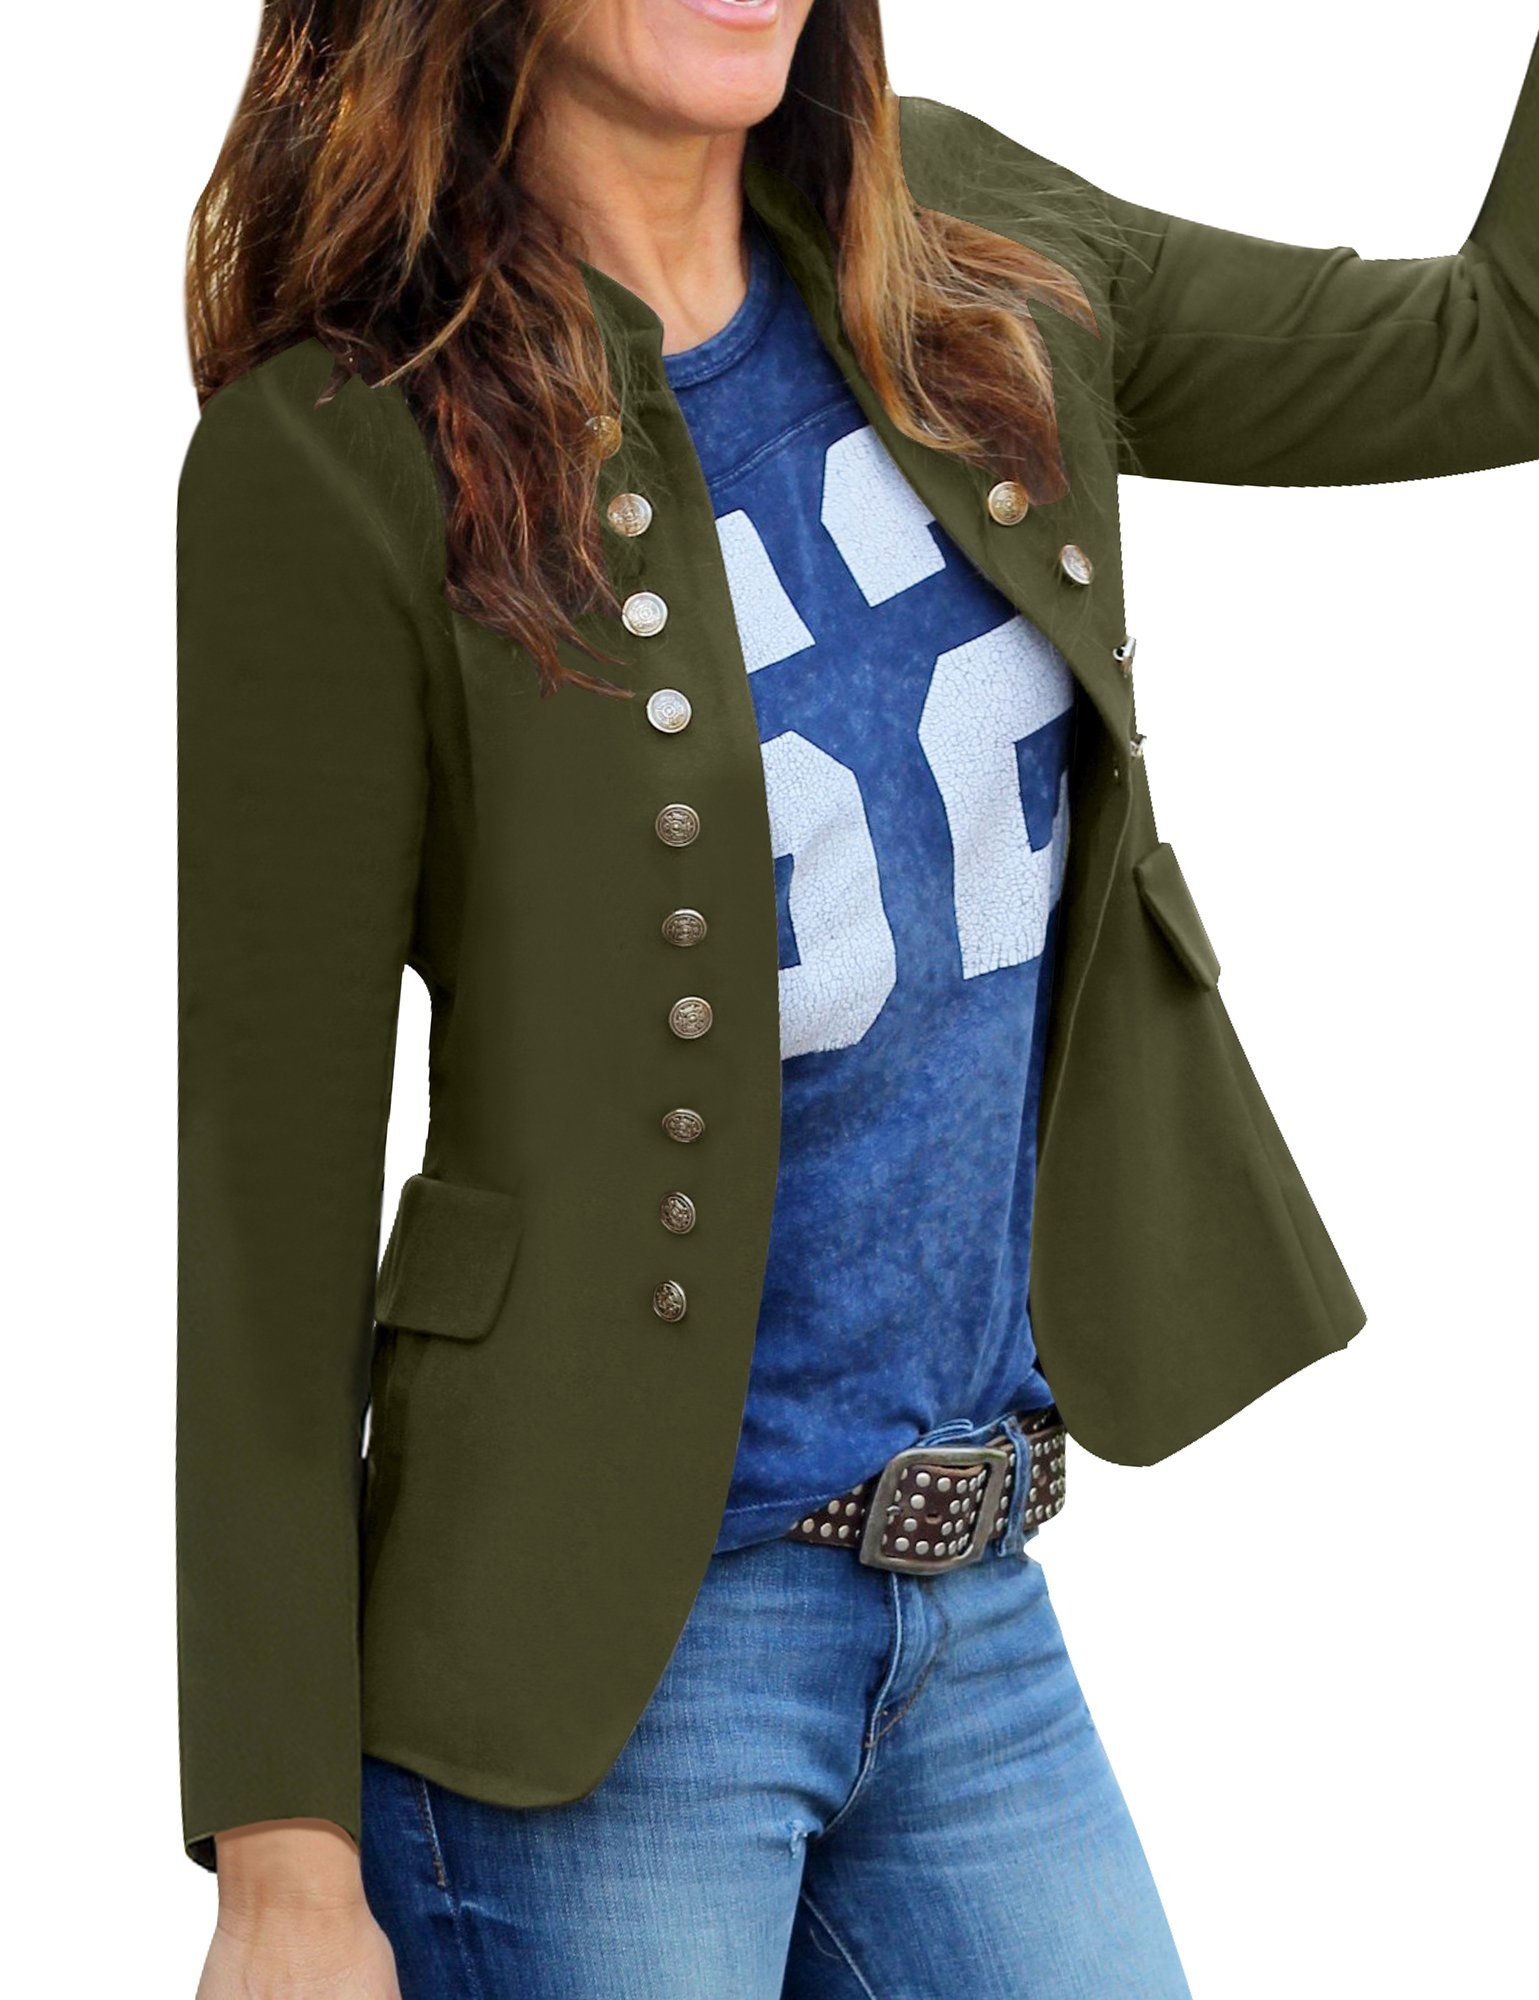F_W_suit jacket: (189, 121, 1516, 1745)
